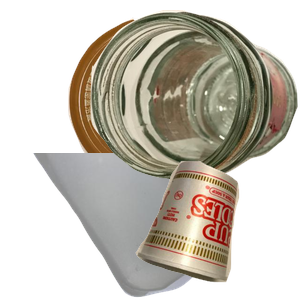glass: (90, 10, 300, 184)
metal: (66, 15, 297, 193)
plastic: (29, 153, 245, 300)
trash: (133, 158, 300, 300)
